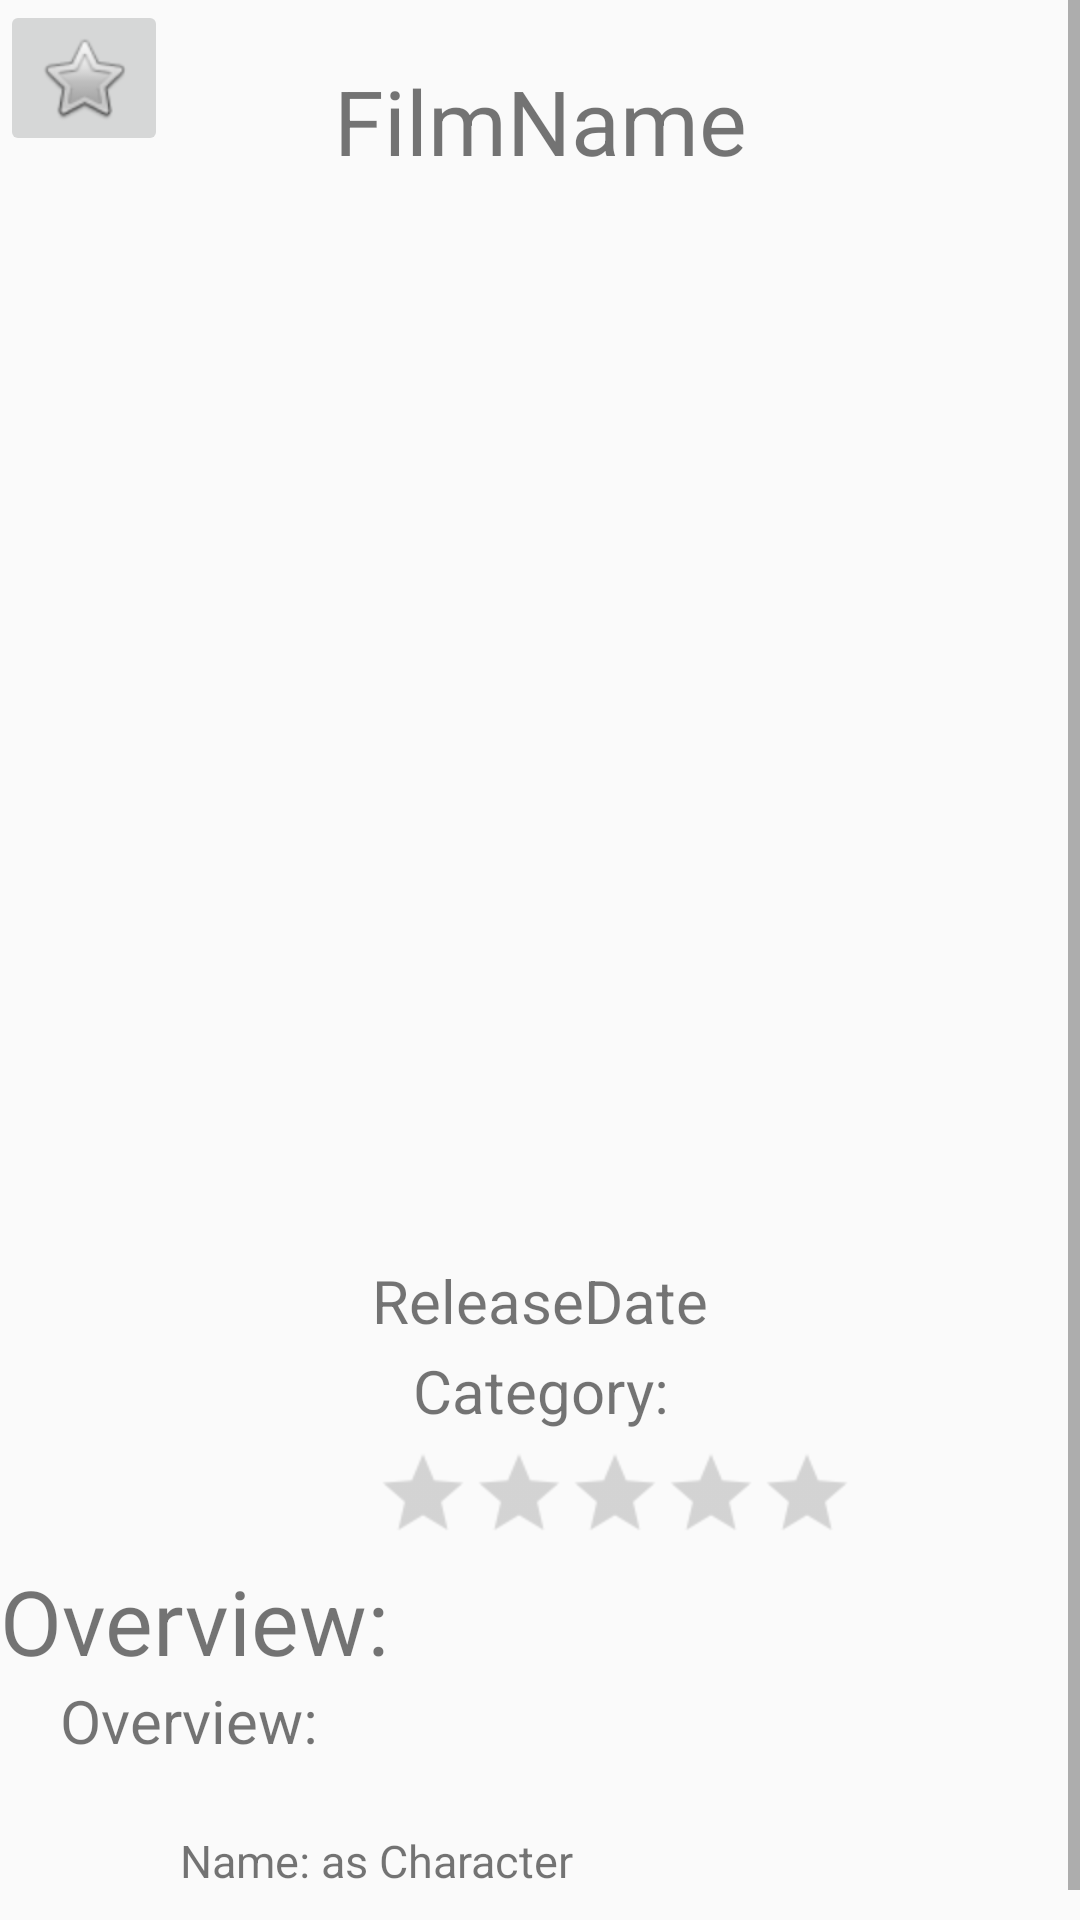

Named icons in this screenshot (1080*1920) and their bounding boxes, (x1, y1, x2, y2):
star: (12, 18, 156, 138)
